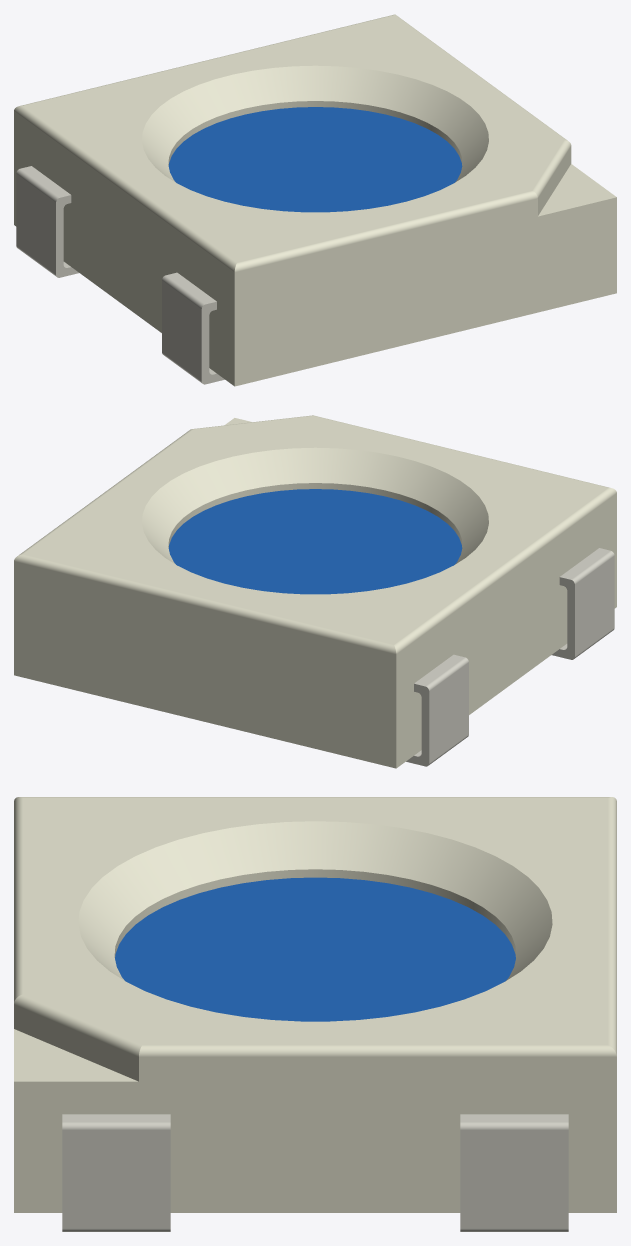
Rendered from LED_SMD_LED_WS2812B_PLCC4_5.0x5.0mm_P3.2mm.glb.
3 views of the same model, one above another, from view 1: azimuth 30°, elevation 25°; view 2: azimuth 150°, elevation 25°; view 3: azimuth 270°, elevation 25° (orthographic). The views are drawn at different scales.
Visible parts, largest first — view 1: LED_WS2812B_PLCC4_50x50mm_P32mm; view 2: LED_WS2812B_PLCC4_50x50mm_P32mm; view 3: LED_WS2812B_PLCC4_50x50mm_P32mm.
Part boxes in pixels (<box>): LED_WS2812B_PLCC4_50x50mm_P32mm: <box>14,14,616,386</box>; LED_WS2812B_PLCC4_50x50mm_P32mm: <box>14,415,616,768</box>; LED_WS2812B_PLCC4_50x50mm_P32mm: <box>14,797,616,1231</box>.
Size of the model in its own units: 0.0054 by 0.0016 by 0.005.
